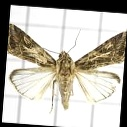Spodoptera litura: (6, 24, 123, 114)
